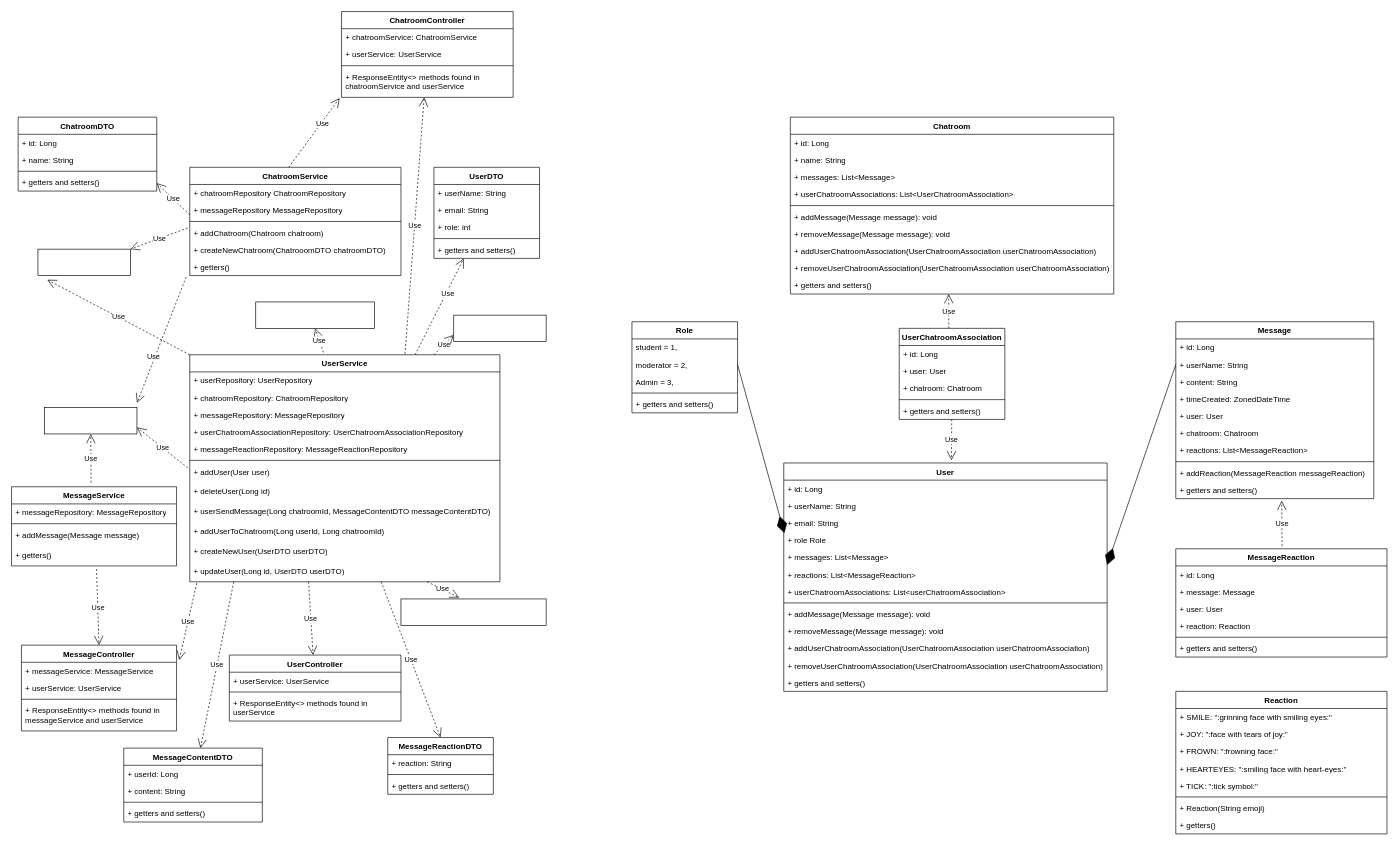
Some shapes in this 1399 by 847 pixel diagram are drawn without their labels. Each missing label, with the centre of its shape:
"«interface» ChatroomRepository" belongs at (83,262).
"«interface» MessageReactionRepository" belongs at (315,314).
"«interface» MessageRepository" belongs at (90,420).
"«interface» UserChatroomAssociationRepository" belongs at (473,611).
"«interface» UserRepository" belongs at (499,328).
